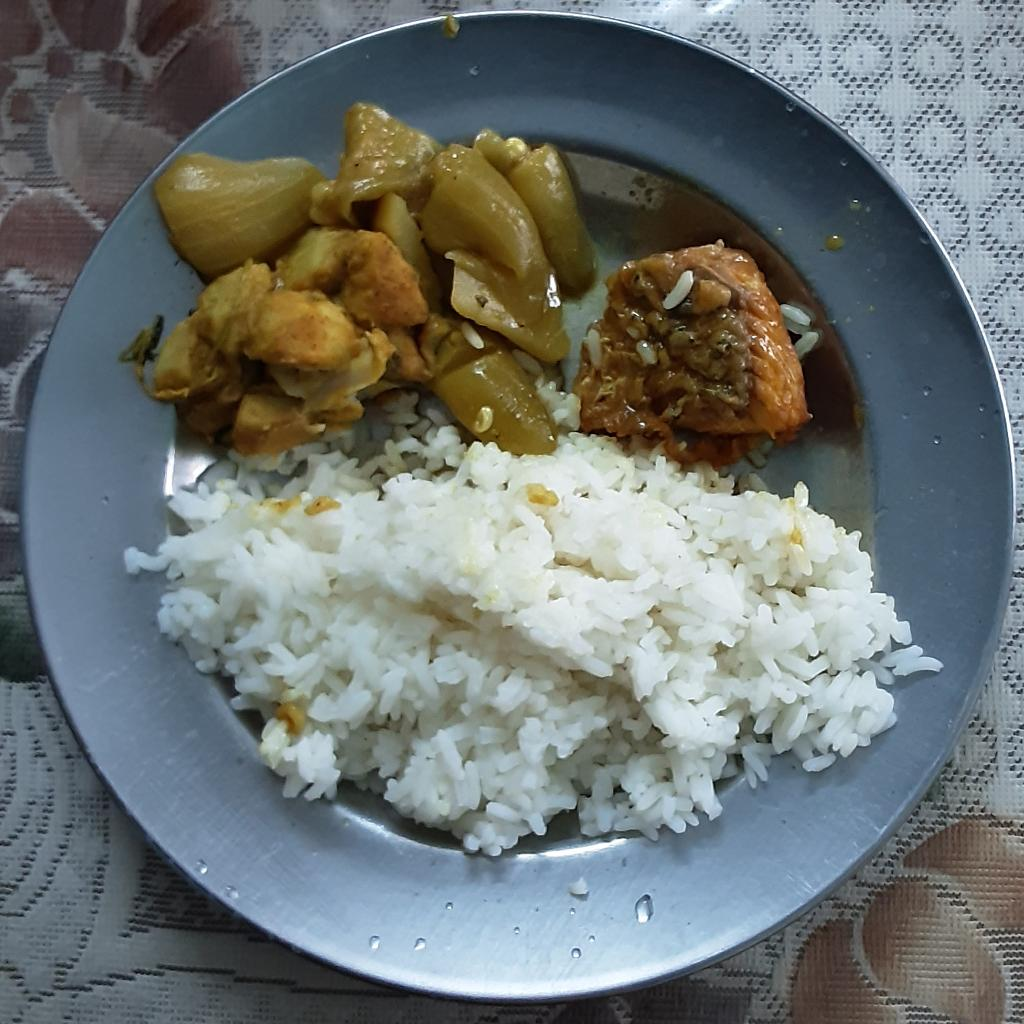fish: (574, 238, 809, 468)
potato: (131, 224, 437, 454)
potol: (144, 101, 607, 457)
rice: (122, 376, 945, 855)
